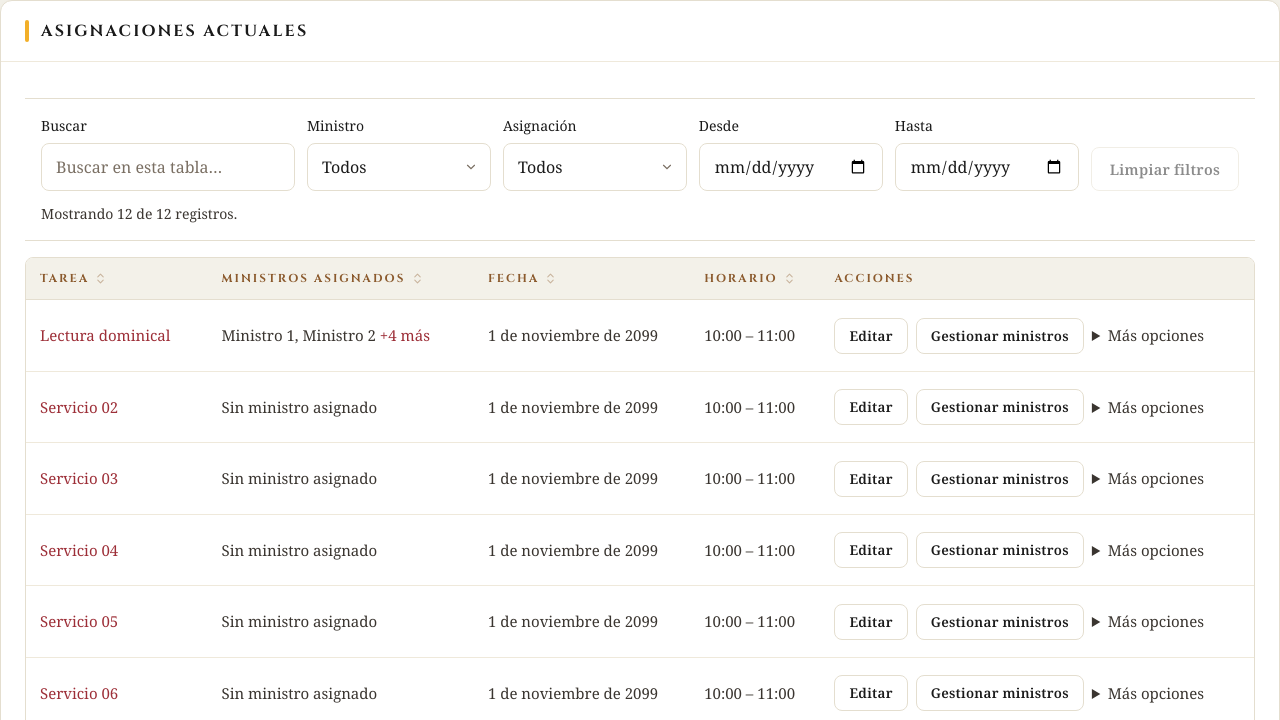
Test: tareas agrupadas y tarjeta de asignación › limita la vista previa a seis cuando hay 6 ministros
Click the button "Lectura dominical".
click(105, 336)  # box [40,320,170,351]
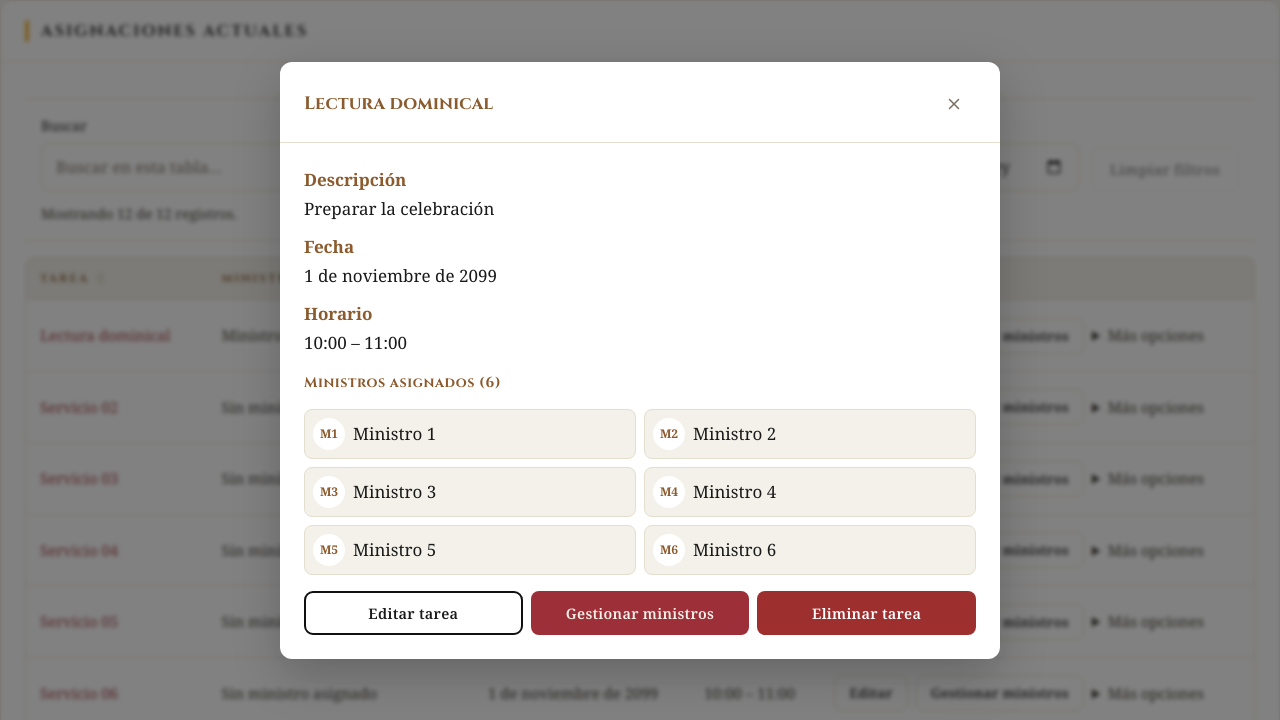
Expected: the number of list items is 6, [304,408,636,458]; [644,408,976,458]; [304,466,636,516]; [644,466,976,516]; [304,524,636,574]; [644,524,976,574]
